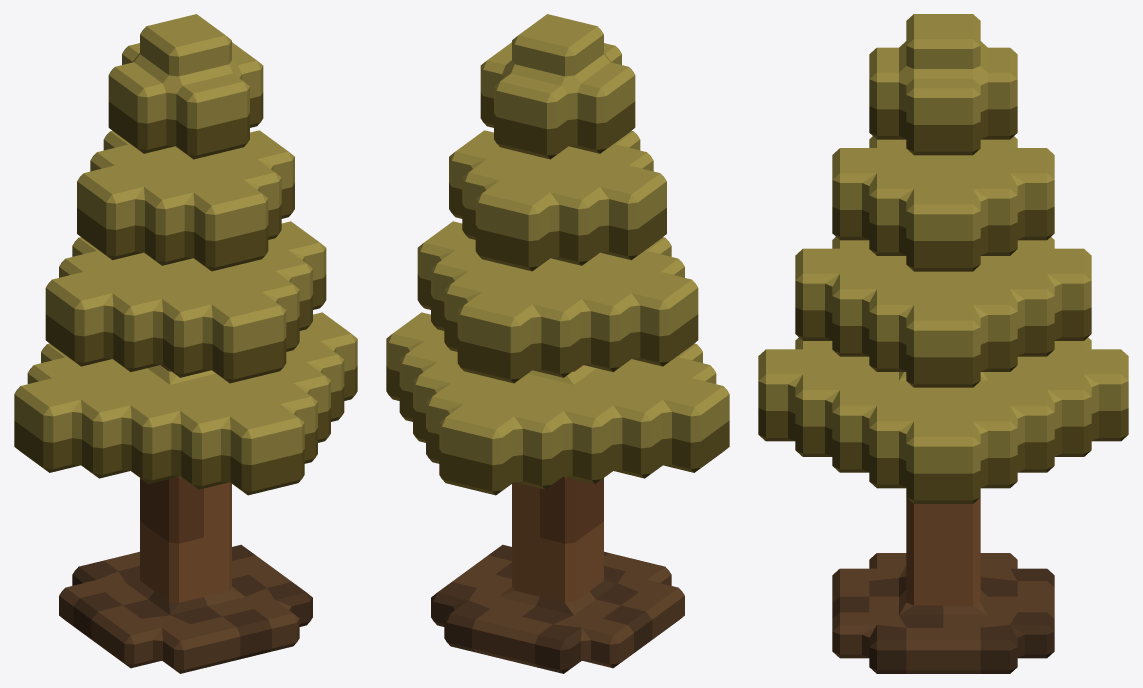
Rendered from prop_sapling_3_voxel.fbx.
The picture shows the model from 3 angles, left to right: view 1: azimuth 30°, elevation 25°; view 2: azimuth 150°, elevation 25°; view 3: azimuth 270°, elevation 25°; orthographic projection.
Visible parts, largest first — view 1: prop_sapling_3_voxel; view 2: prop_sapling_3_voxel; view 3: prop_sapling_3_voxel.
Boxes of the visible parts, box(x1,y1,x2,y2) form: prop_sapling_3_voxel: box(14, 14, 357, 673); prop_sapling_3_voxel: box(386, 14, 729, 673); prop_sapling_3_voxel: box(758, 14, 1128, 673).
Bounding box in the file's own units: 0.8 × 1.44 × 0.8.
